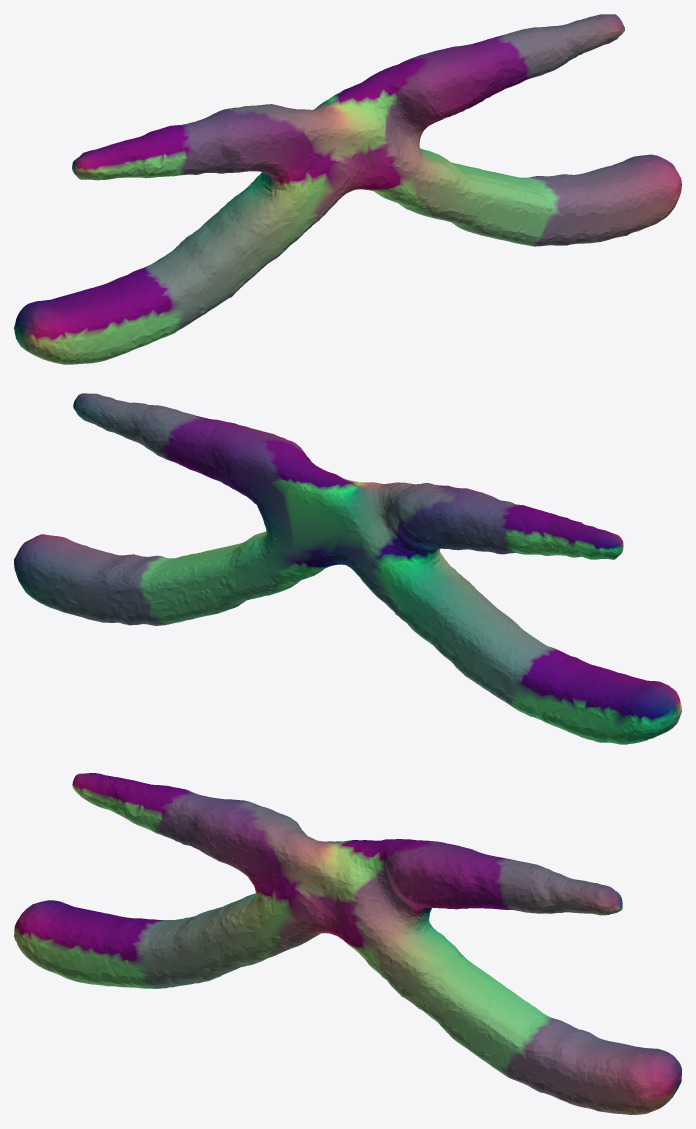
Rendered from pliers-19.off.obj.
The picture shows the model from 3 angles, top to bottom: view 1: azimuth 30°, elevation 25°; view 2: azimuth 150°, elevation 25°; view 3: azimuth 330°, elevation 25°; orthographic projection.
Bounding box in the file's own units: 1.78 × 0.5736 × 0.1737.
